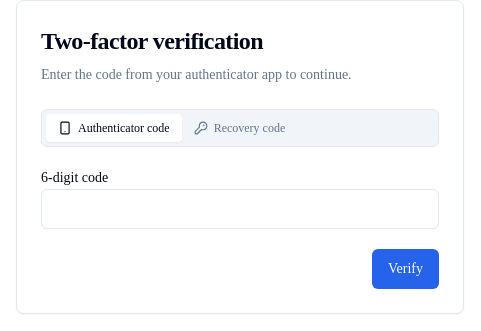
MfaChallenge › switches to recovery tab when clicked
The image size is (481, 331).
Step 1. Click the tab with test id "mfa-tab-recovery" → (239, 128), box x1=182 y1=114 x2=297 y2=142
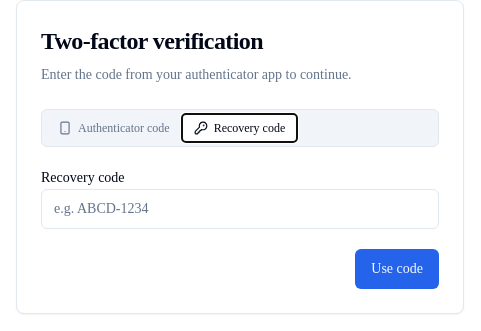
Check: the field with test id "mfa-challenge-recovery-input" is shown, box x1=41 y1=189 x2=439 y2=229
